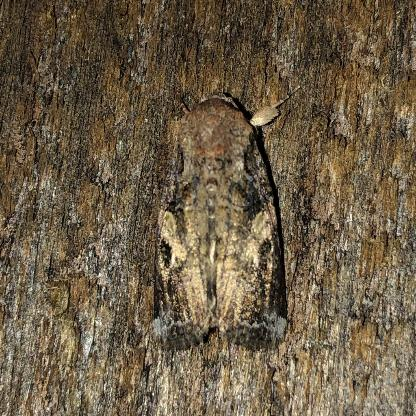Fall Armyworm Moth: (149, 80, 303, 354)
